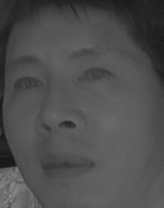eye: (9, 75, 45, 96), (74, 66, 112, 85)
mouth: (37, 147, 94, 183)
